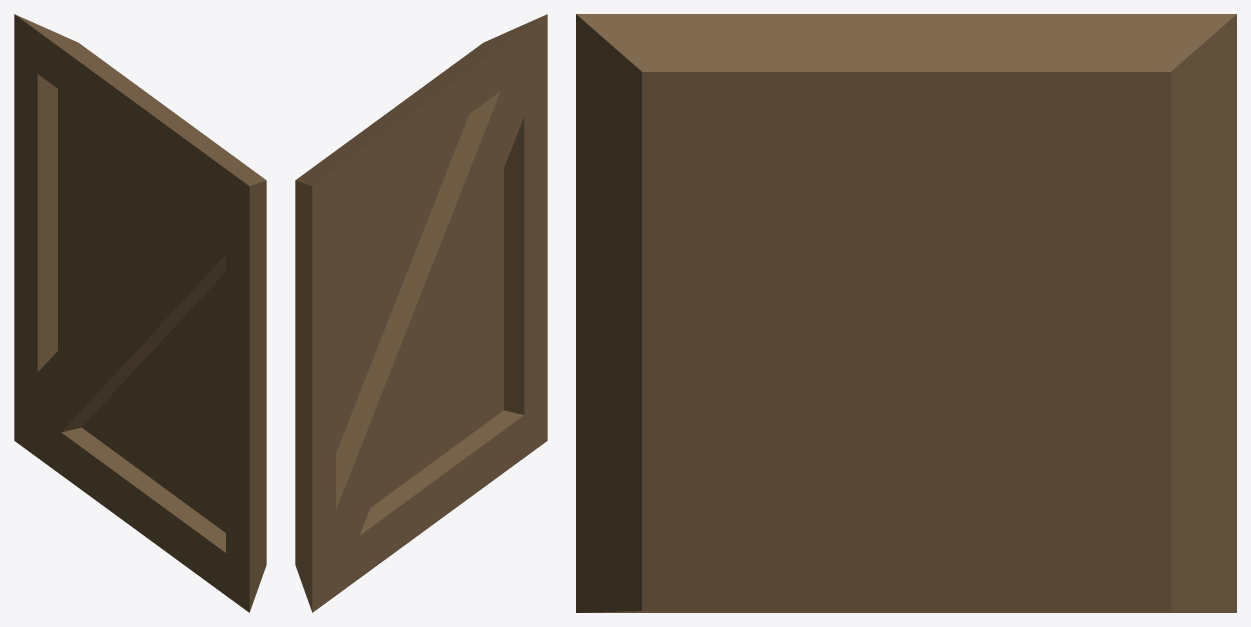
File: crate_face02_whole.fbx
The picture shows the model from 3 angles, left to right: view 1: azimuth 30°, elevation 25°; view 2: azimuth 150°, elevation 25°; view 3: azimuth 270°, elevation 25°; orthographic projection. The views are drawn at different scales.
Parts seen in each view (by area): view 1: crateFace02; view 2: crateFace02; view 3: crateFace02.
Boxes of the visible parts, bbox=[...] form: crateFace02: bbox=[14, 14, 266, 612]; crateFace02: bbox=[295, 14, 547, 612]; crateFace02: bbox=[576, 14, 1236, 612].
Bounding box in the file's own units: 4 × 40 × 40.
